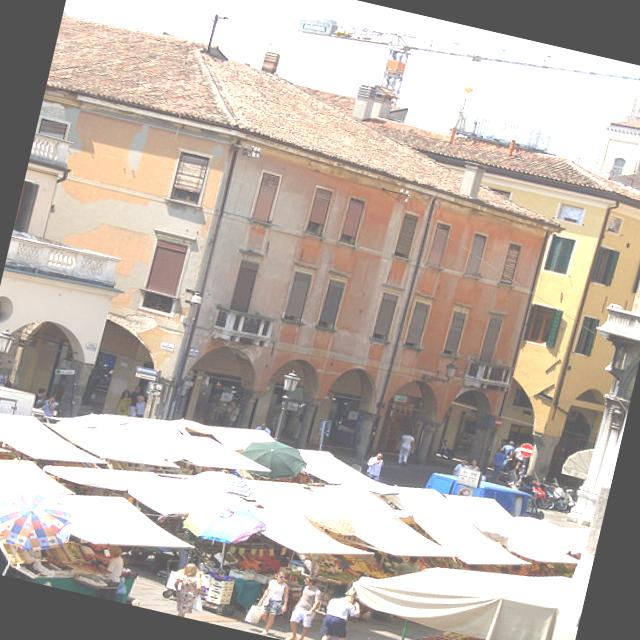Vehicle: (500, 472, 555, 509), (533, 473, 574, 512), (436, 436, 458, 459)
